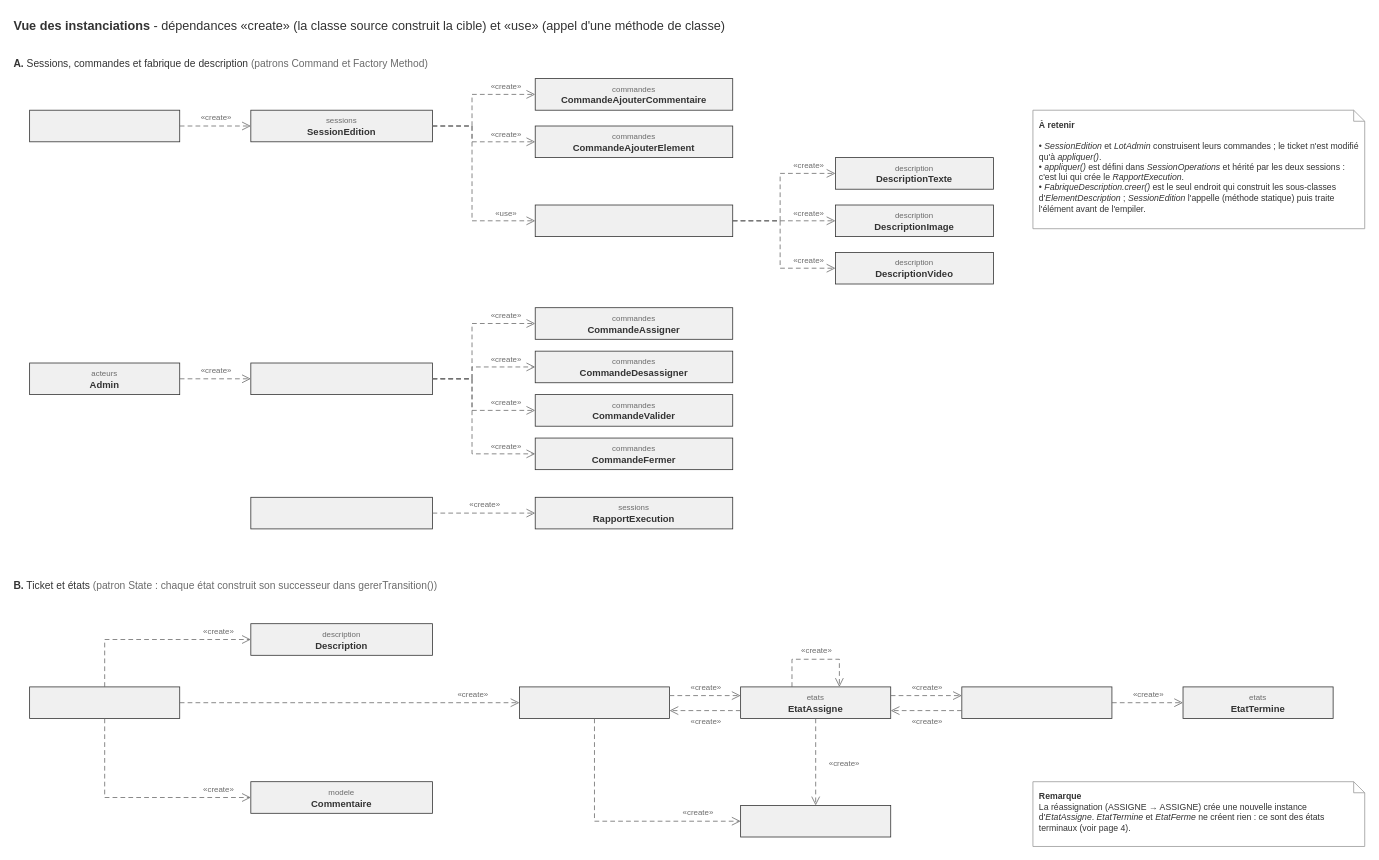
Image size: 1379x860. Some labels were removed from this diagram. The centre of each missing label's shape, as x and y in pixels:
"acteurs User" goes at (104,125).
"description FabriqueDescription" goes at (633,220).
"etats EtatFerme" goes at (815,821).
"etats EtatOuvert" goes at (594,702).
"etats EtatValidation" goes at (1036,702).
"modele Ticket" goes at (104,702).
"sessions LotAdmin" goes at (341,378).
"sessions SessionOperations" goes at (341,513).
